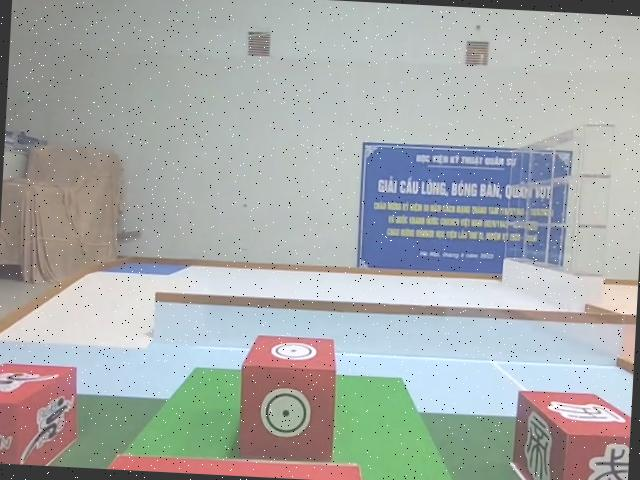R1: (0, 361, 79, 467)
R2 Fake: (510, 387, 632, 480)
R2 Real: (236, 332, 341, 469)
